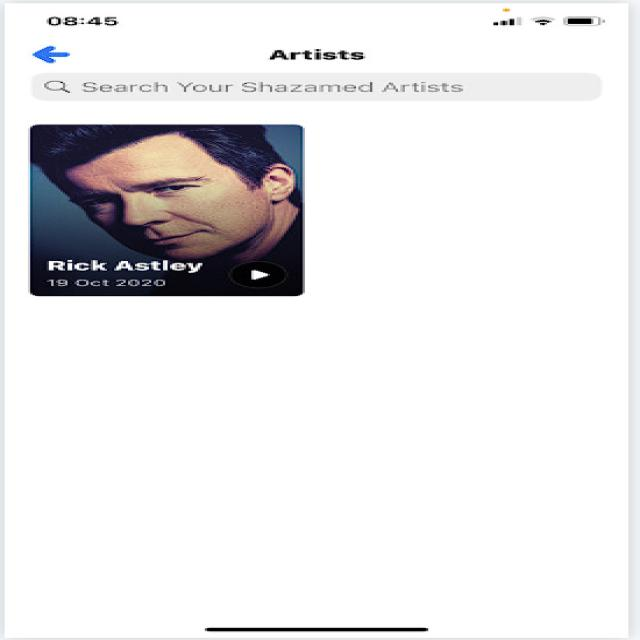icon button: (12, 38, 94, 68)
image: (15, 111, 317, 304)
input: (21, 69, 612, 111)
text: (259, 42, 389, 64)
